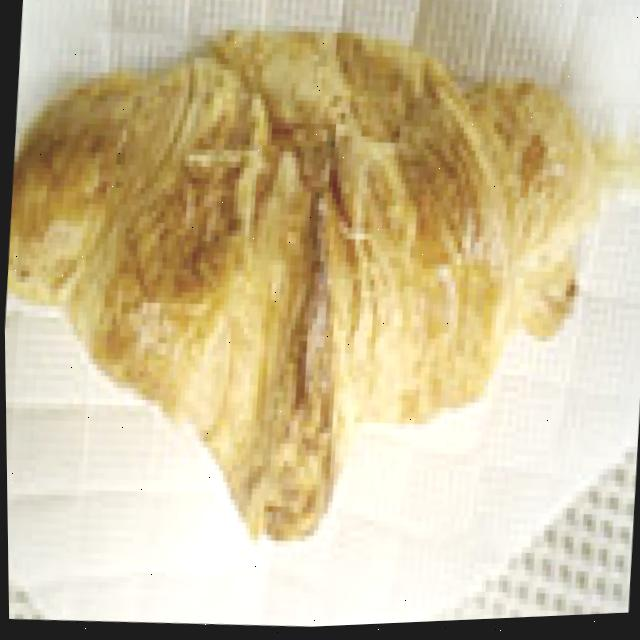面包点心: (0, 0, 602, 594)
